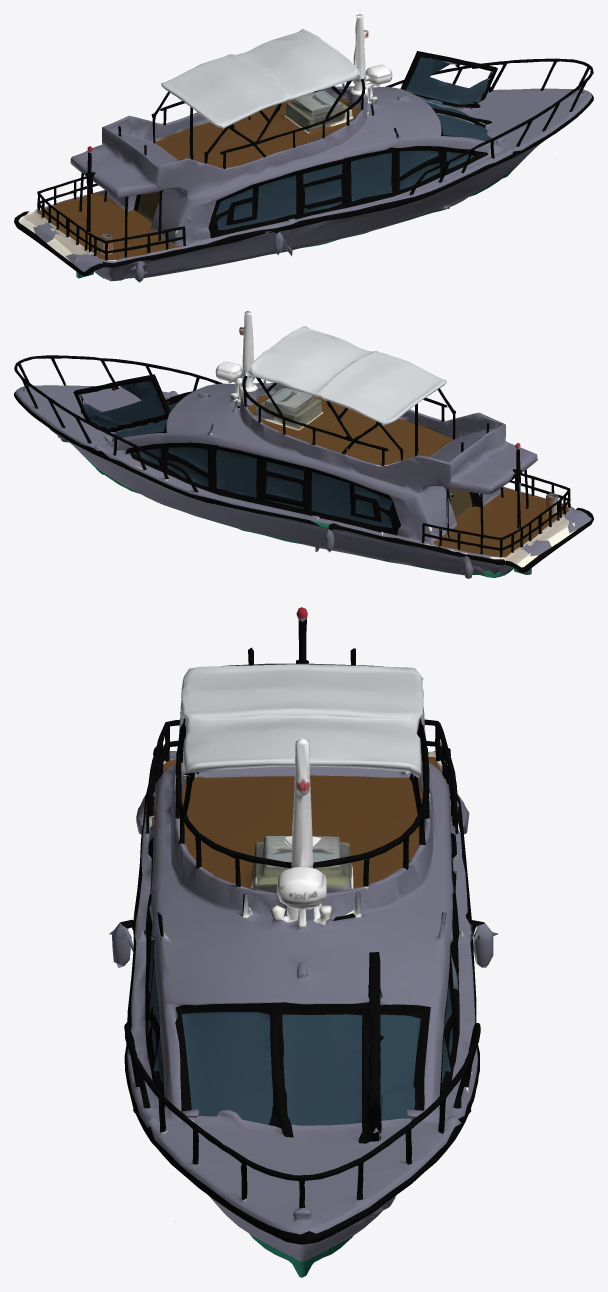
The model's file is boat customized_final.glb.
3 renders of one model, top to bottom at view 1: azimuth 30°, elevation 25°; view 2: azimuth 150°, elevation 25°; view 3: azimuth 270°, elevation 25°, orthographic. The views are drawn at different scales.
Parts seen in each view (by area): view 1: tripo_node_a39e3661-099f-4dfd-be06-26e35b15228d; view 2: tripo_node_a39e3661-099f-4dfd-be06-26e35b15228d; view 3: tripo_node_a39e3661-099f-4dfd-be06-26e35b15228d.
Boxes of the visible parts, bbox=[...] form: tripo_node_a39e3661-099f-4dfd-be06-26e35b15228d: bbox=[14, 14, 593, 282]; tripo_node_a39e3661-099f-4dfd-be06-26e35b15228d: bbox=[14, 311, 593, 578]; tripo_node_a39e3661-099f-4dfd-be06-26e35b15228d: bbox=[109, 607, 498, 1277].
Size of the model in its own units: 1.9 by 0.666 by 0.5891.
Materials: 8 (1 with a texture image).
